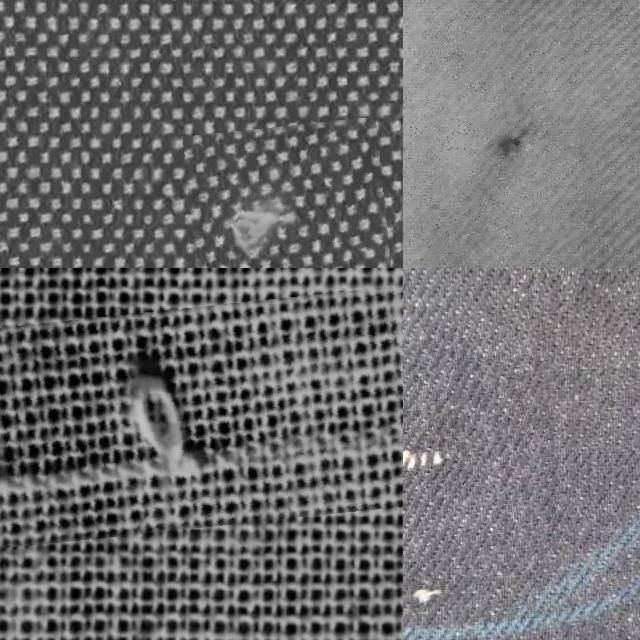other: (428, 34, 597, 246)
stains: (0, 285, 403, 537), (403, 313, 563, 564), (188, 120, 394, 268)
